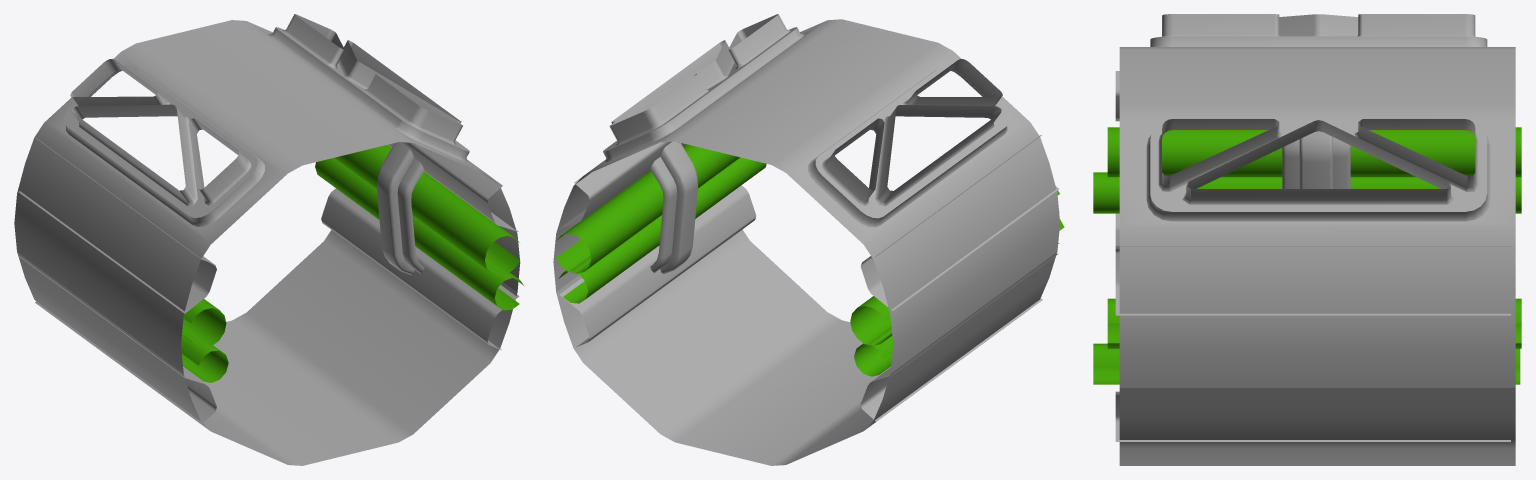
The model's file is Couloir2.fbx.
3 views of the same model, side by side, from view 1: azimuth 30°, elevation 25°; view 2: azimuth 150°, elevation 25°; view 3: azimuth 270°, elevation 25° (orthographic). The views are drawn at different scales.
Parts seen in each view (by area): view 1: Coiloir2_low; view 2: Coiloir2_low; view 3: Coiloir2_low.
Boxes of the visible parts, x1=… form: Coiloir2_low: x1=14, y1=14, x2=523, y2=465; Coiloir2_low: x1=553, y1=14, x2=1064, y2=465; Coiloir2_low: x1=1093, y1=14, x2=1521, y2=465.
Bounding box in the file's own units: 21.49 × 18.78 × 19.78.
